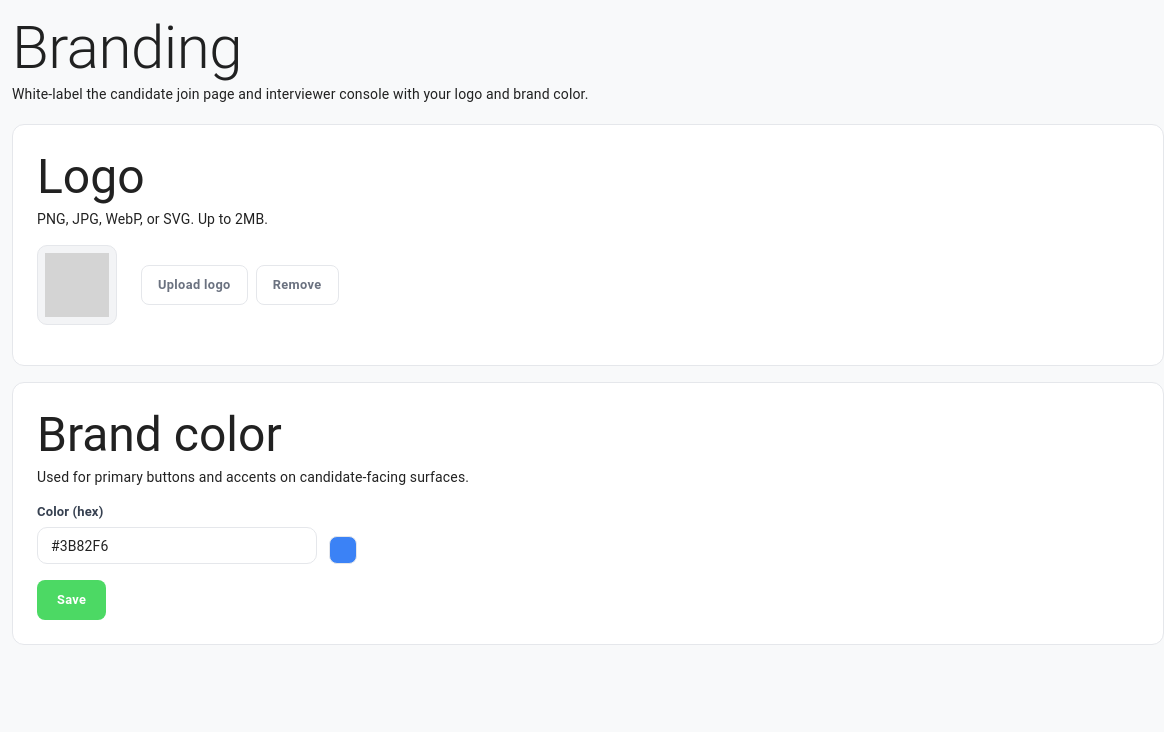
Test: BrandingPage › remove failure shows an error
Click the button "Remove": (297, 285) [256,265,338,305]
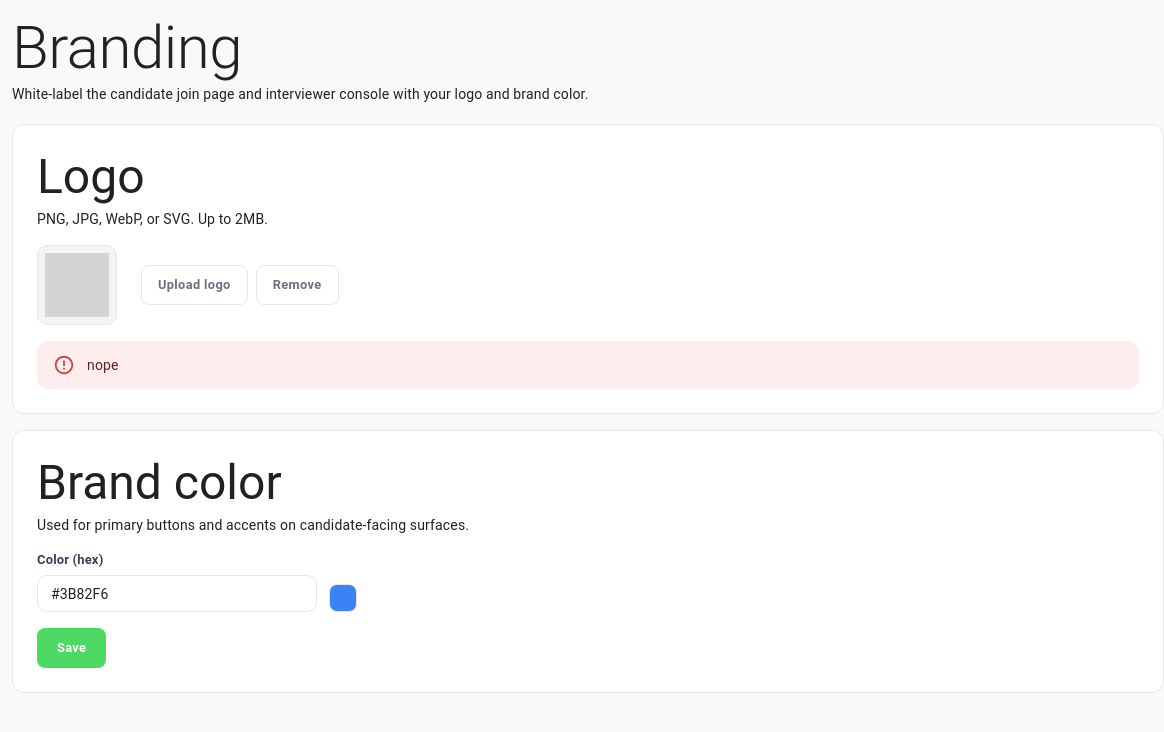
Expected: the text "nope" is shown, [87,357,119,373]
